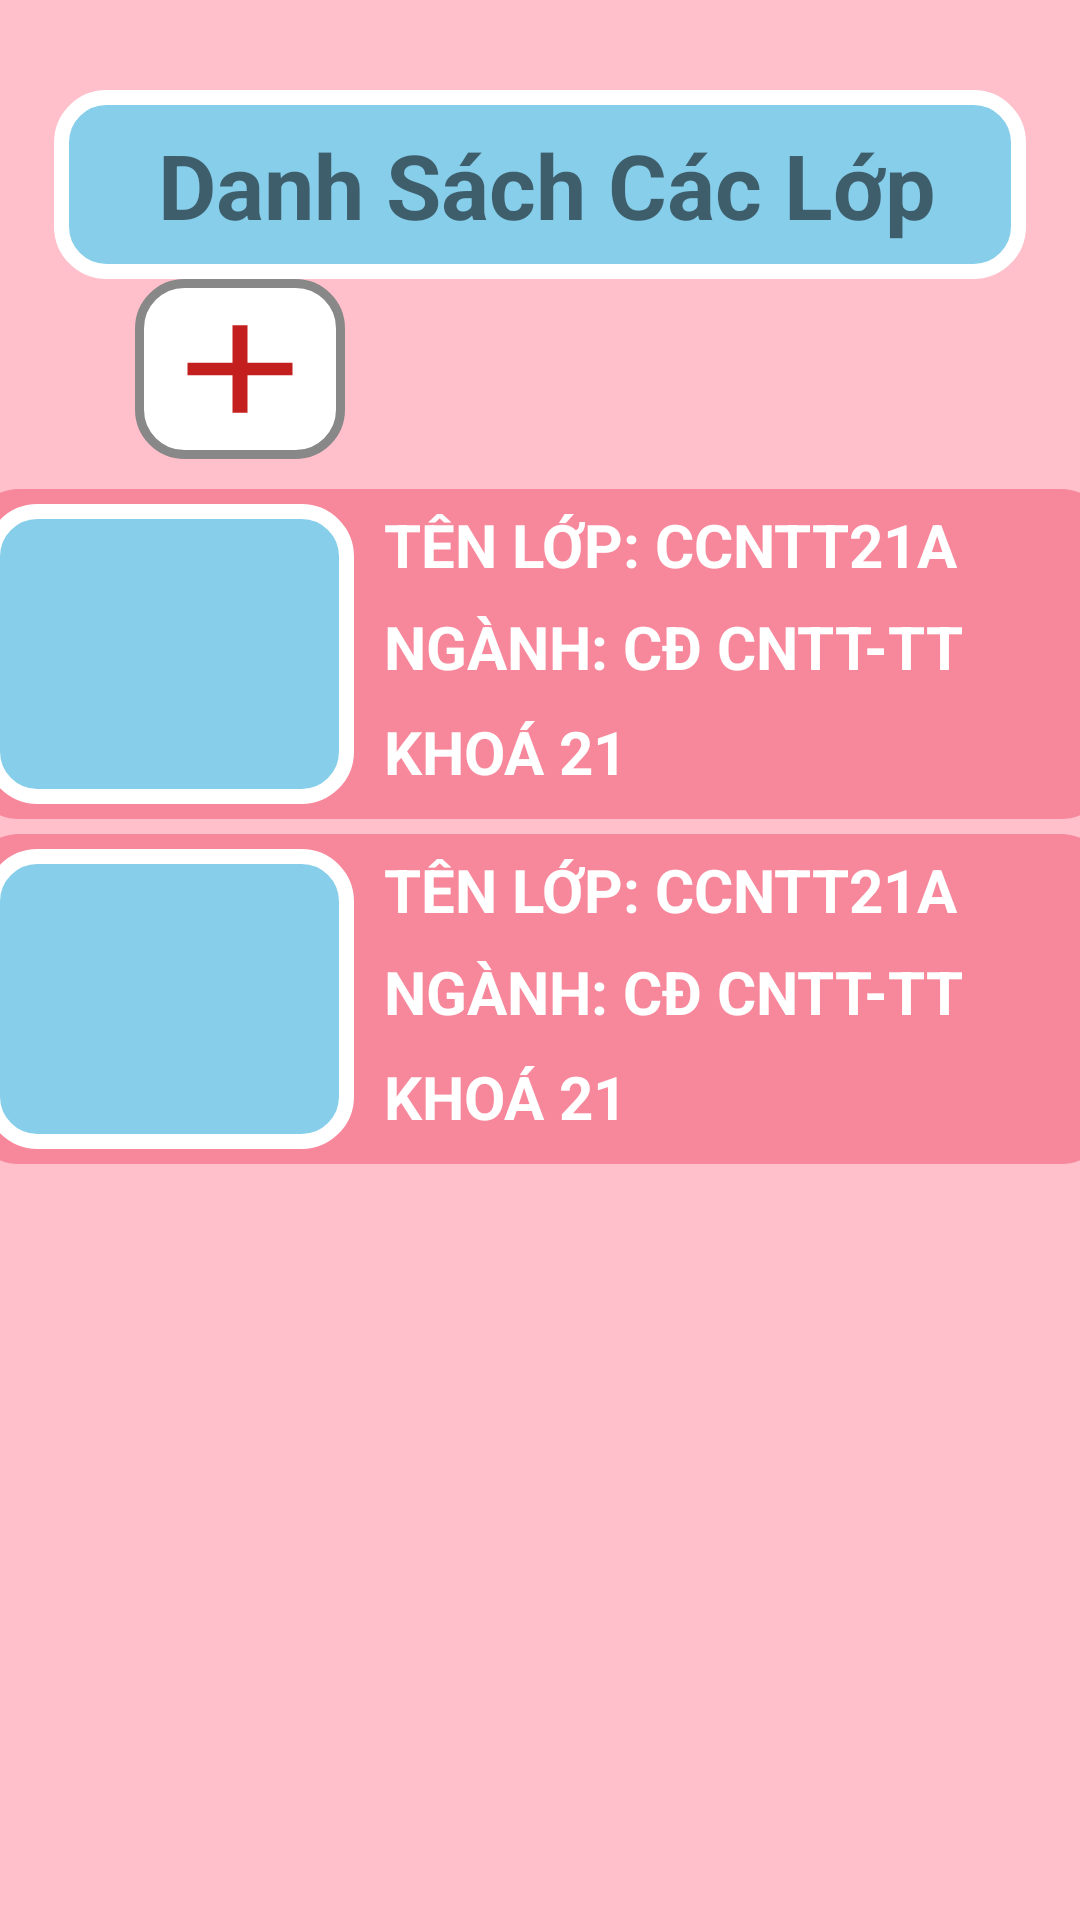

Locate icon controls on the screen. Image size 1080 x 1920, boxes as [x1, y1, x2, y2].
add: [187, 325, 293, 413]
